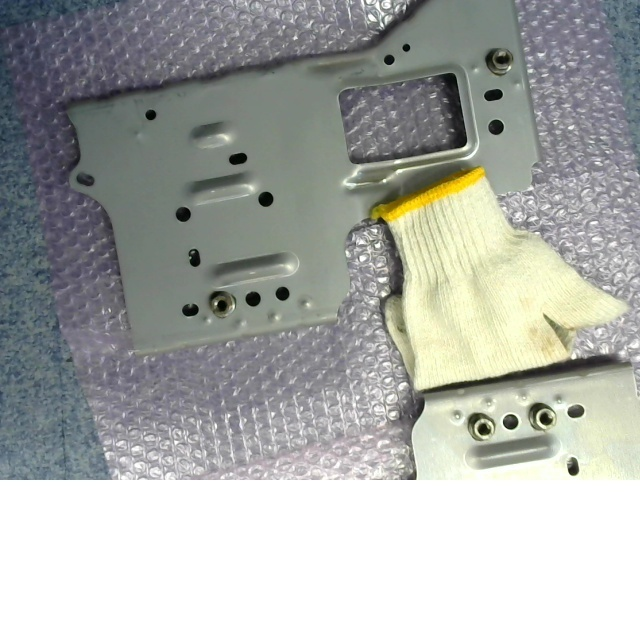dog: (485, 48, 515, 77), (528, 402, 556, 433), (467, 413, 496, 442), (209, 291, 235, 319)
